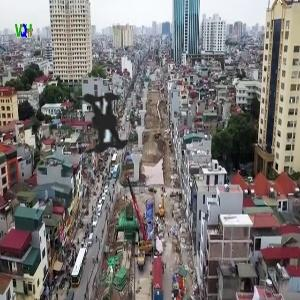drone: (4, 13, 210, 219)
